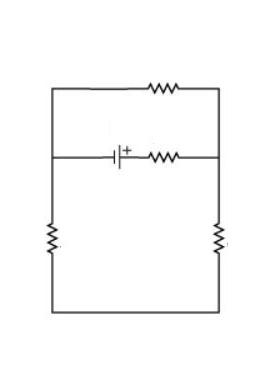resistor: (201, 210, 236, 267), (34, 206, 65, 269), (140, 66, 189, 103), (137, 142, 191, 169)
